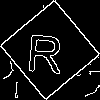R: (25, 25, 65, 74)
